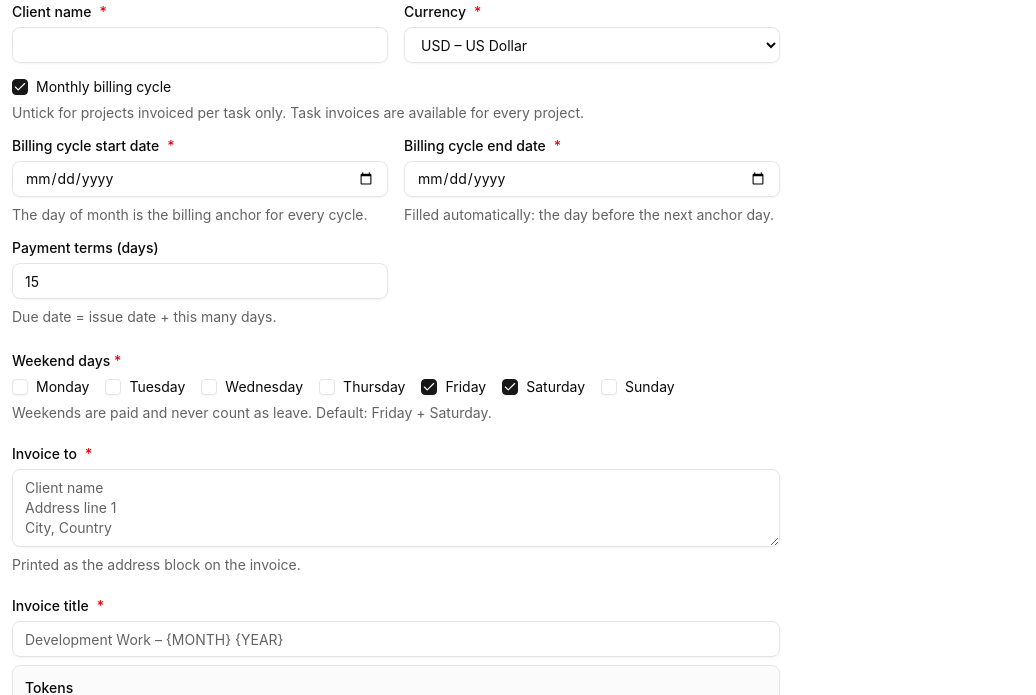
it: ProjectForm › shows token help, inserts tokens and previews the first title
The image size is (1036, 695).
Type "Development Work –" into the field labelled "Invoice title *" at (396, 639), box [12,621,780,657]
(page scrolled)
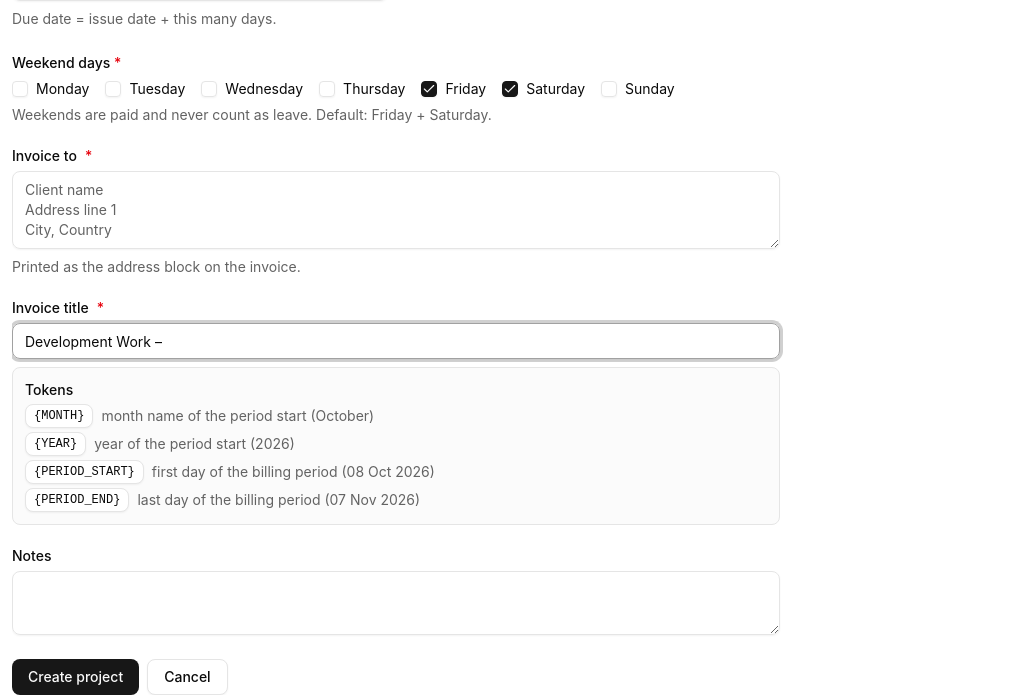
Click the button with aria-label "Insert {MONTH}" at (59, 416), box [25,404,93,428]
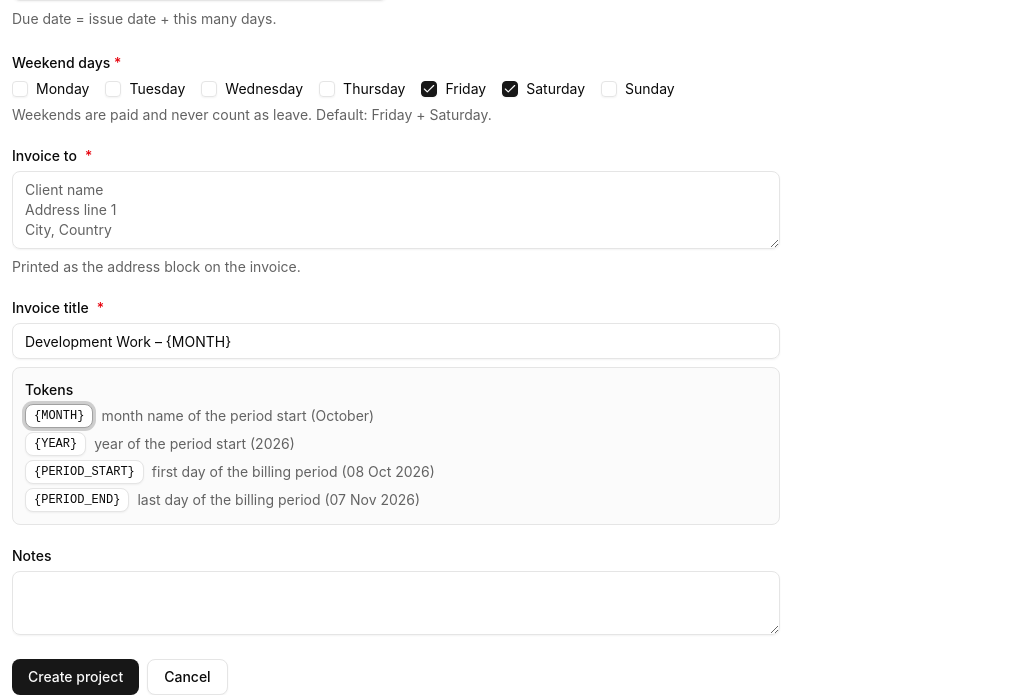
Click the button with aria-label "Insert {YEAR}" at (56, 444), box [25,432,86,456]
(page scrolled)
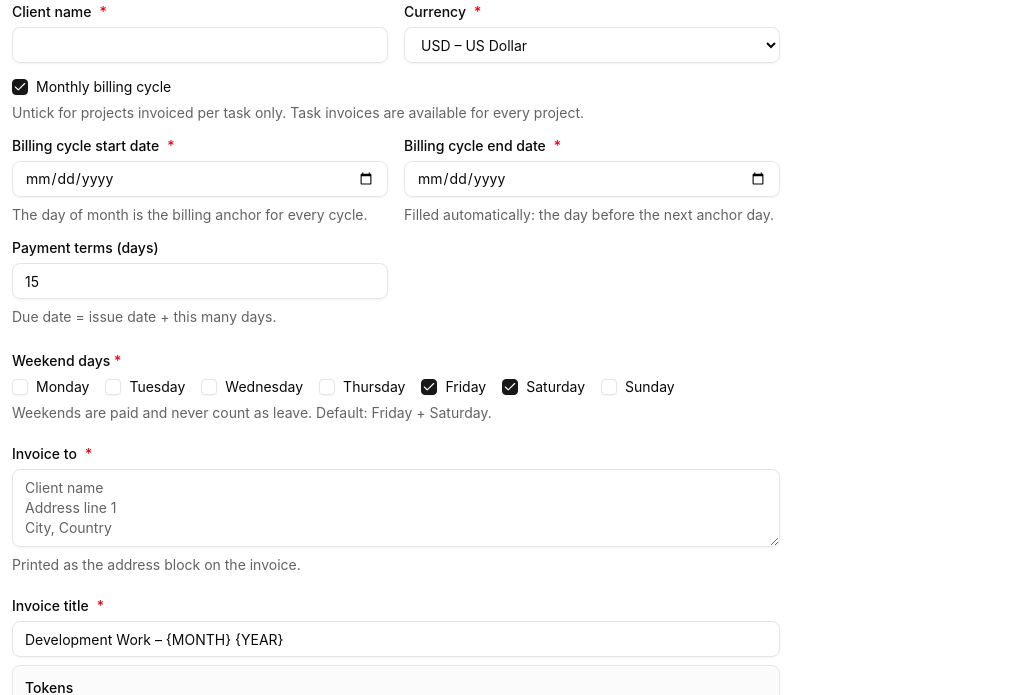
Expected: the field labelled "Invoice title *" holds "Development Work – {MONTH} {YEAR}", [12,621,780,657]
Type "2026-10-08" into the date field labelled "Billing cycle start date *" at (200, 179), box [12,161,388,197]
(page scrolled)
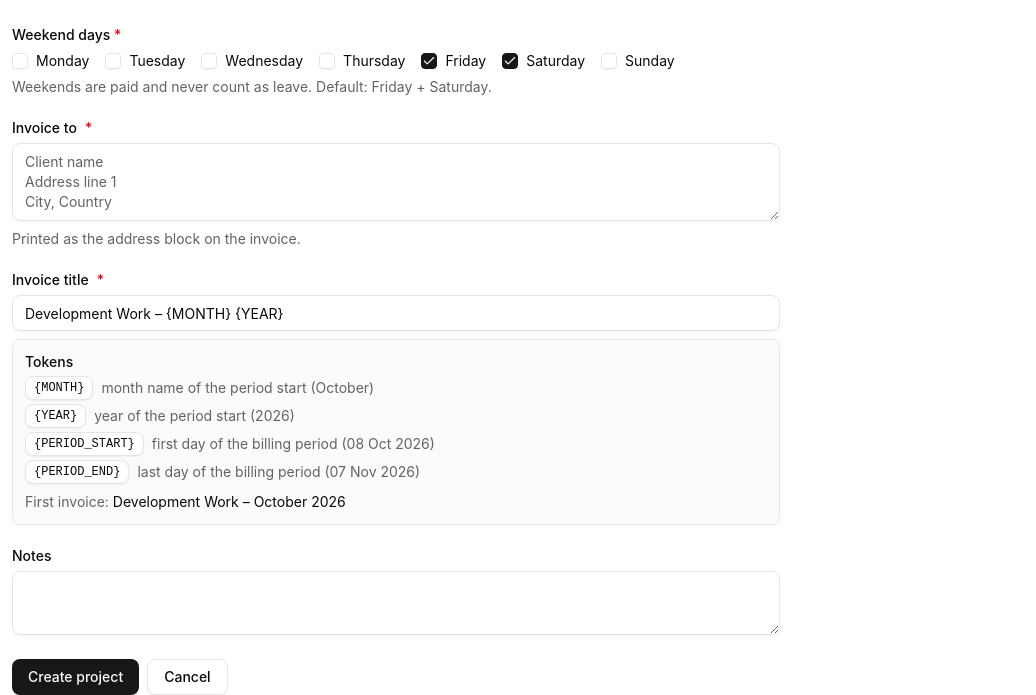
Expected: the element with test id "title-preview" shows "Development Work – October 2026", [113,493,346,510]
